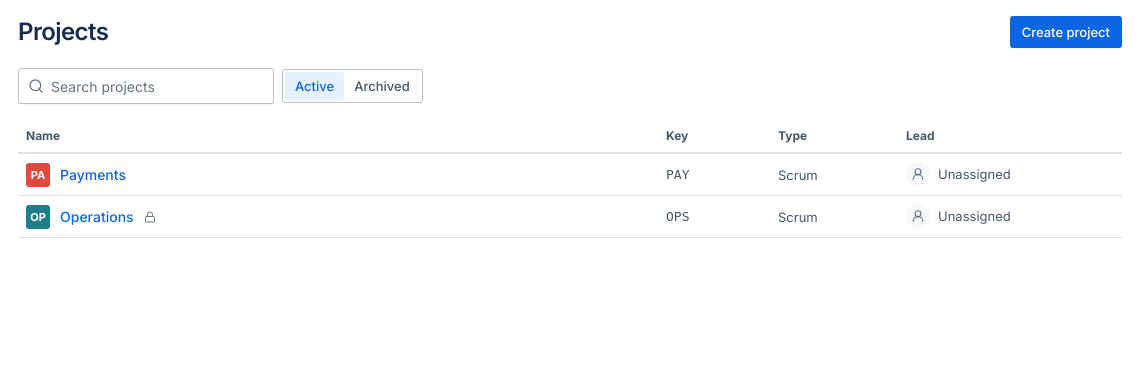
Test: ProjectsPage › lists projects, marks private ones and filters by name or key
This screenshot has width=1139, height=365.
Expected: the icon named "Private" is shown, [144,210,156,222]
Type "ops" into the search field labelled "Search projects" at (146, 86), box [18,68,274,104]
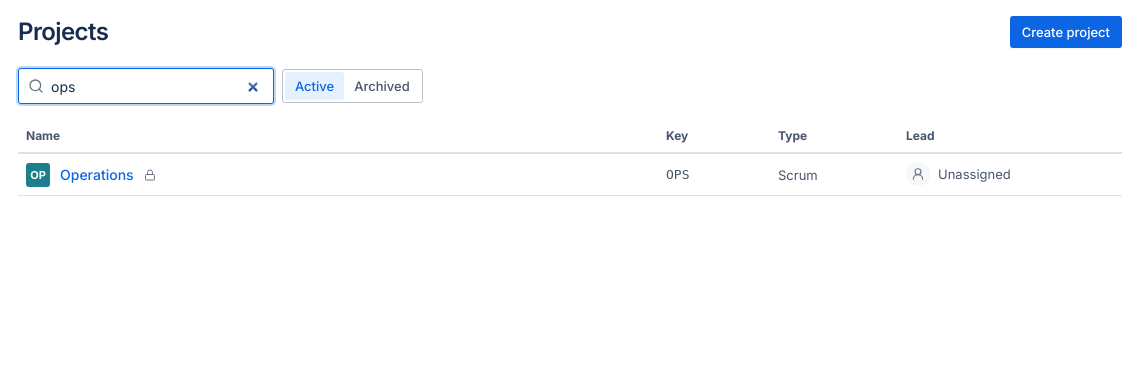
Expected: the link "OP Operations" is shown, [26,162,156,186]
Now the link "Payments" is gone
Replace the text in the search field named "Search projects" with "zzz" at (146, 86), box [18,68,274,104]
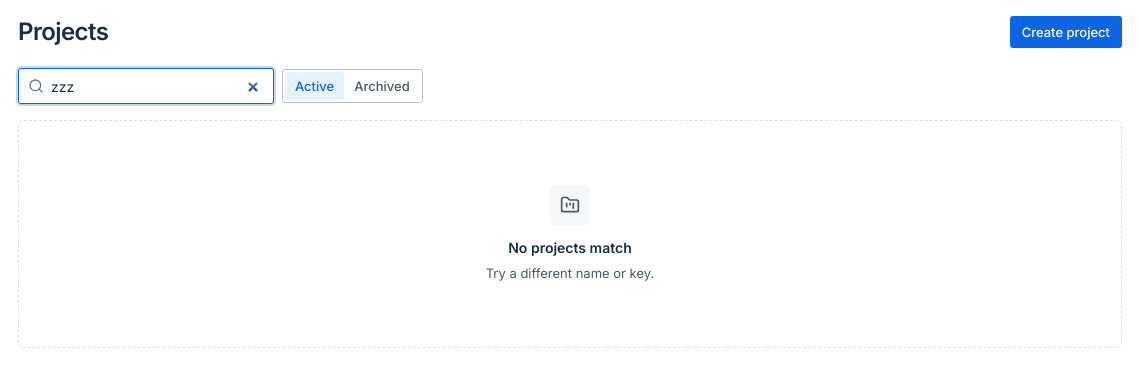
Now the heading "No projects match" is shown, box [508,237,632,259]
